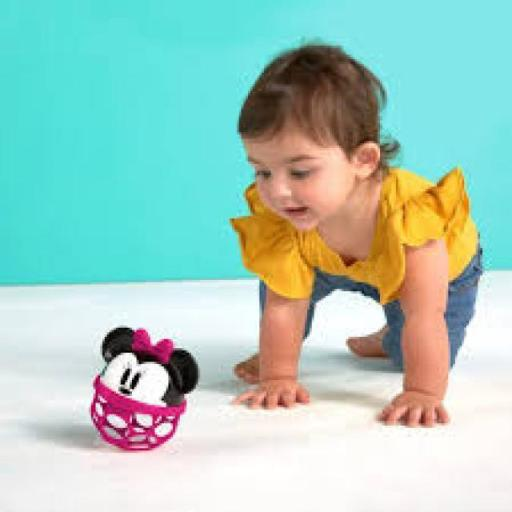baby: (234, 44, 482, 429)
